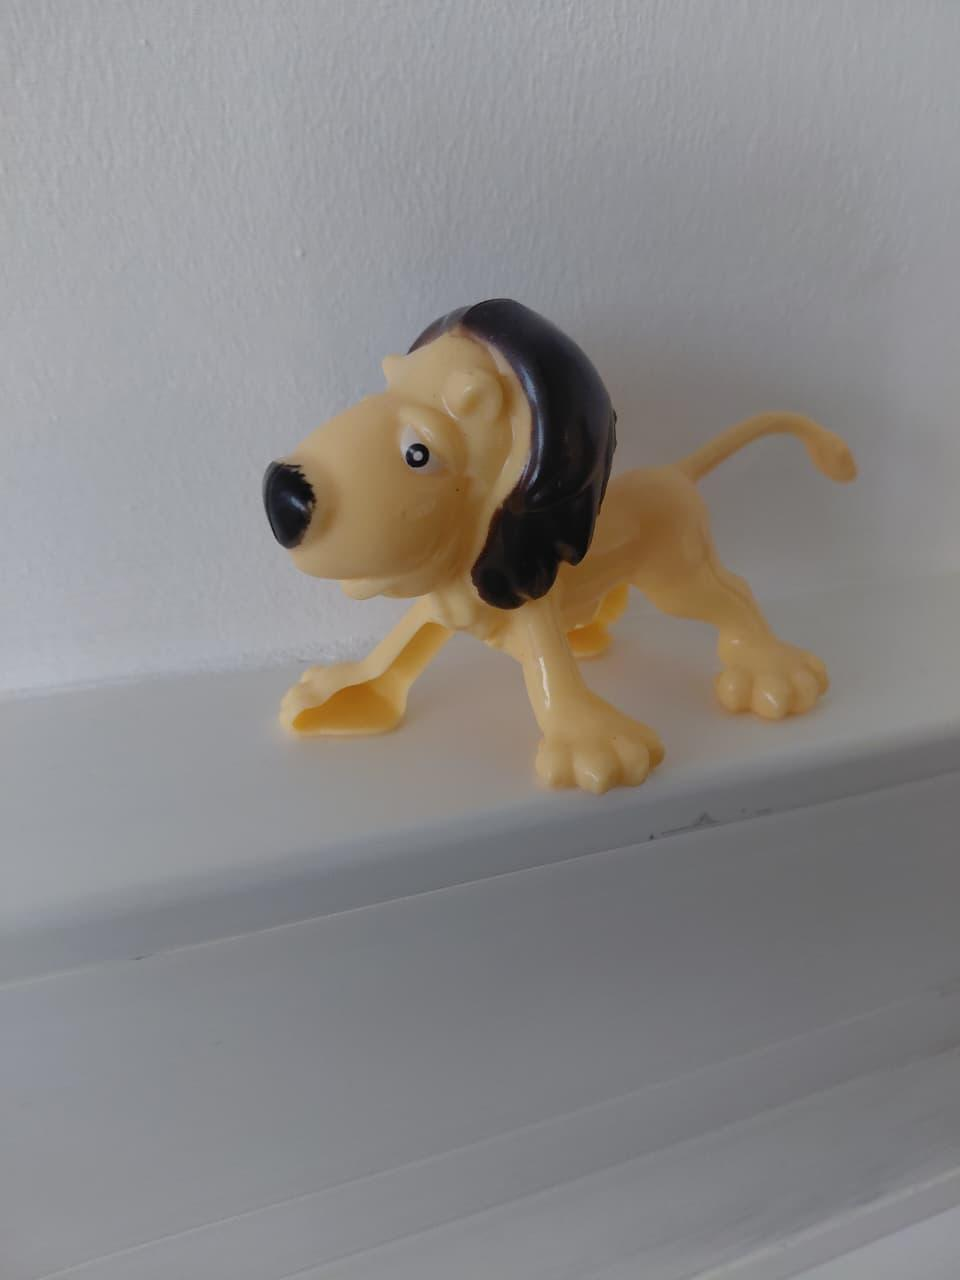lion: (223, 253, 888, 822)
